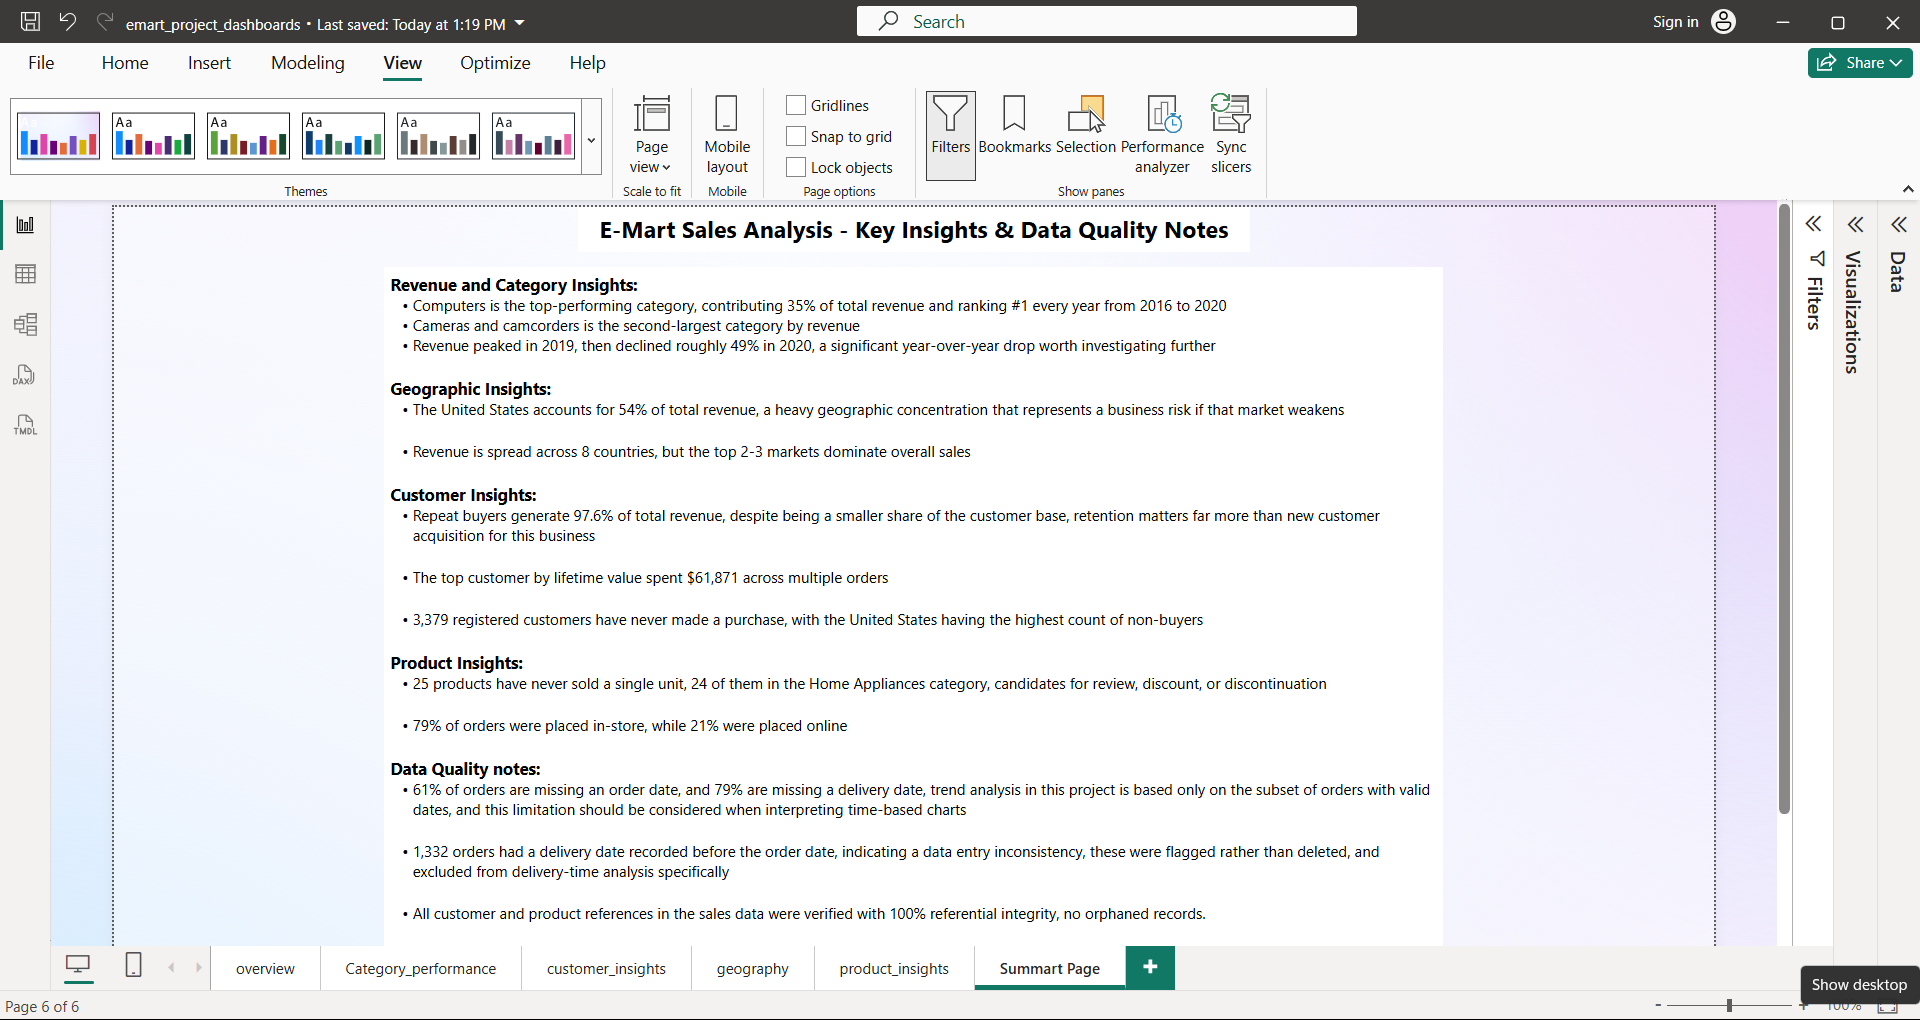

The dashboard page shown, as its layout file describes it:
{"tool":"powerbi","page":{"name":"Summart Page","canvas":[1280,720],"ordinal":5},"visuals":[{"type":"textbox","box":[371,0,538,36],"z":0},{"type":"textbox","box":[216,48,847,607],"z":1000}]}

Visuals, with their boxes on the page's 1280x720 design canvas (x1, y1, x2, y2). These are canvas units, not pixel positions in the 1920x1020 screenshot, which may show the page scaled, cropped or inside an application window:
textbox: region(371, 0, 909, 36)
textbox: region(216, 48, 1063, 655)
